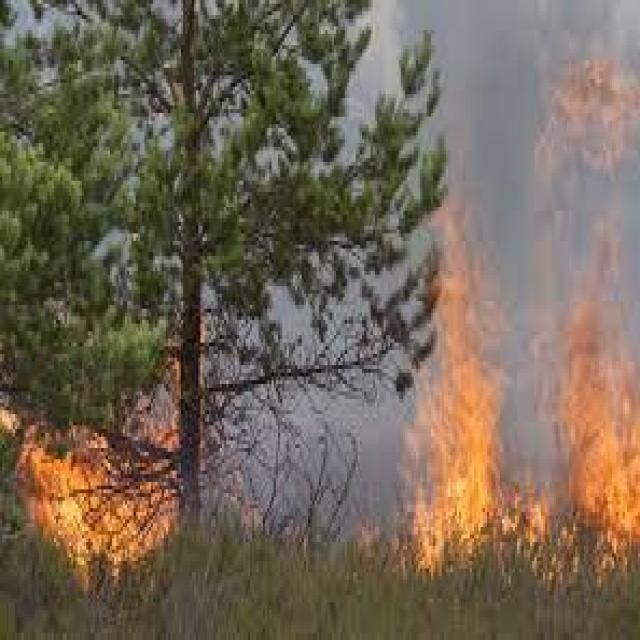Fire: (371, 198, 634, 602), (2, 359, 210, 612)
